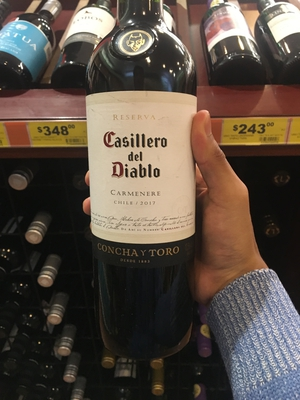casillero del diablo carmenere: (82, 8, 215, 356)
